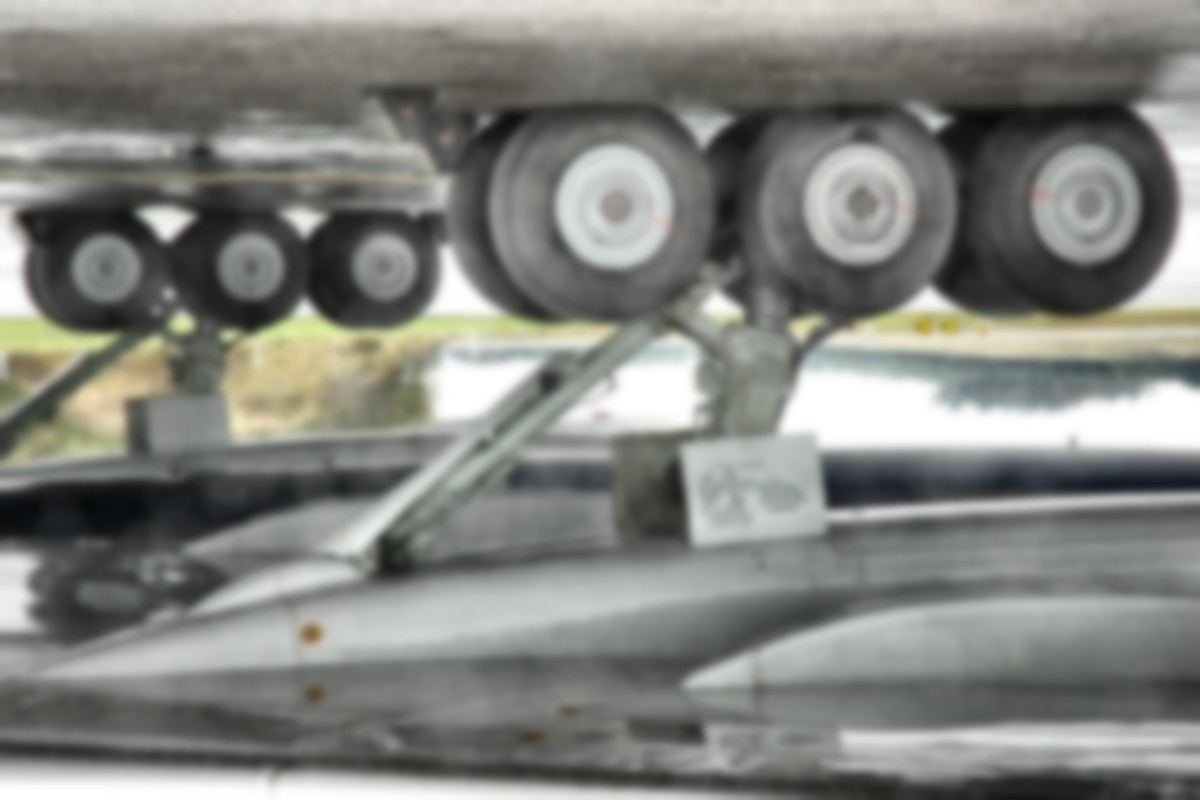chock: (393, 108, 483, 181), (363, 85, 441, 149), (4, 208, 62, 253), (418, 209, 453, 250), (540, 371, 562, 396)
wheel: (483, 101, 720, 327), (737, 99, 960, 321), (974, 101, 1183, 319), (39, 208, 170, 332), (180, 207, 308, 328), (317, 211, 441, 334)
